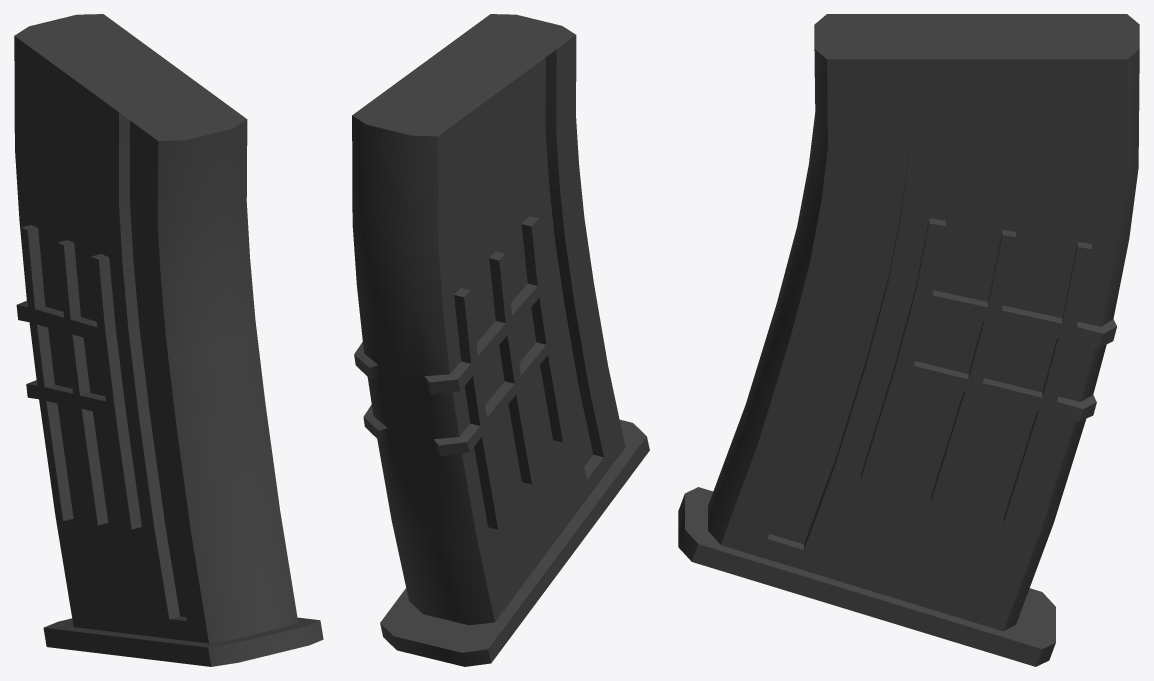
File: mag_1.fbx
3 views of the same model, side by side, from view 1: azimuth 30°, elevation 25°; view 2: azimuth 150°, elevation 25°; view 3: azimuth 270°, elevation 25° (orthographic). The views are drawn at different scales.
Visible parts, largest first — view 1: magazine_1; view 2: magazine_1; view 3: magazine_1.
Boxes of the visible parts, left/top/right/bottom form: magazine_1: left=14, top=14, right=323, bottom=666; magazine_1: left=352, top=14, right=649, bottom=666; magazine_1: left=678, top=14, right=1139, bottom=666.
Bounding box in the file's own units: 132 × 654 × 452.
